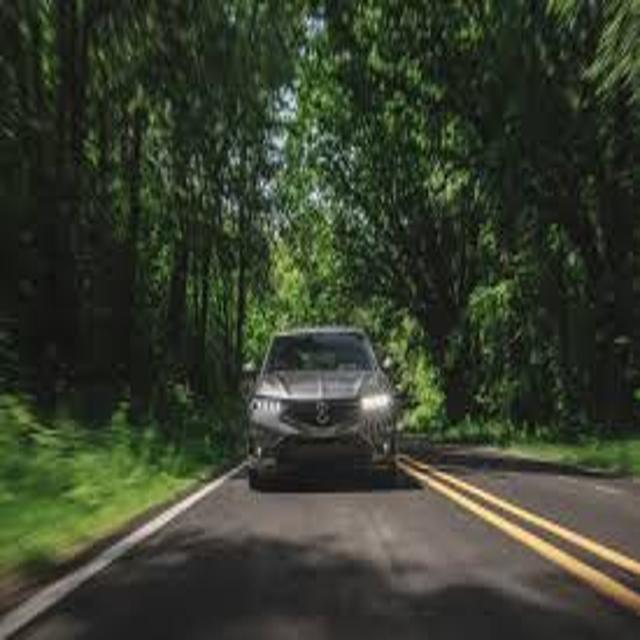car: (242, 328, 398, 486)
